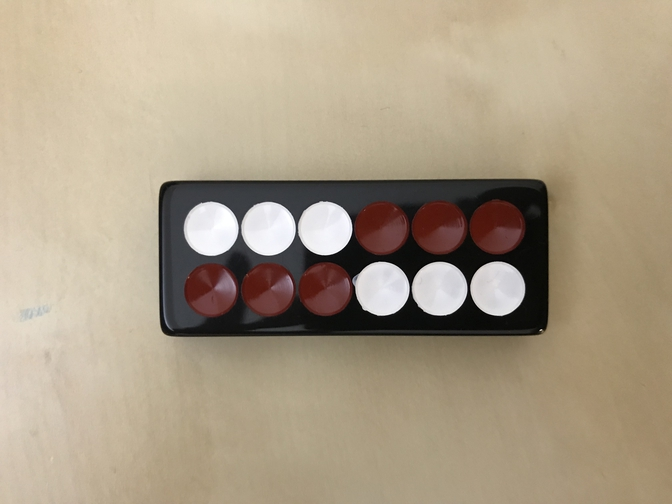heaven: (159, 179, 548, 335)
